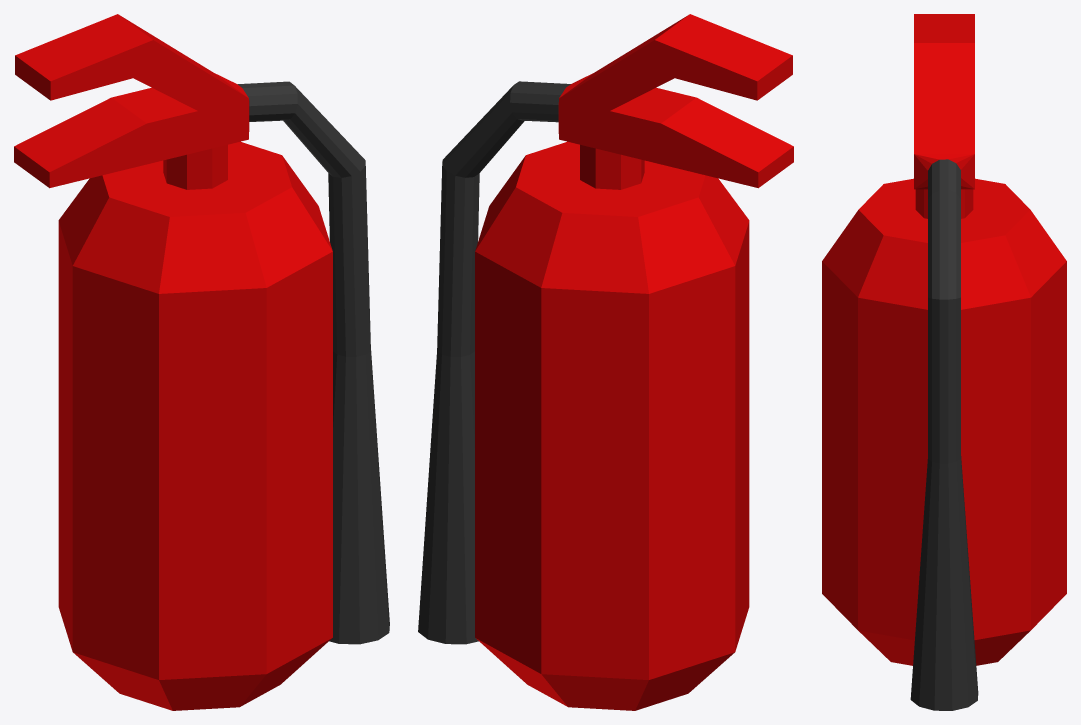
File: FireStopper.fbx
The picture shows the model from 3 angles, left to right: view 1: azimuth 30°, elevation 25°; view 2: azimuth 150°, elevation 25°; view 3: azimuth 270°, elevation 25°; orthographic projection. The views are drawn at different scales.
Visible parts, largest first — view 1: Extuingisher; view 2: Extuingisher; view 3: Extuingisher.
Part boxes in pixels (box(x1,y1,x2,y2)): Extuingisher: box(14, 14, 389, 710); Extuingisher: box(418, 14, 793, 710); Extuingisher: box(822, 14, 1066, 710).
Bounding box in the file's own units: 28.69 × 51.49 × 20.
